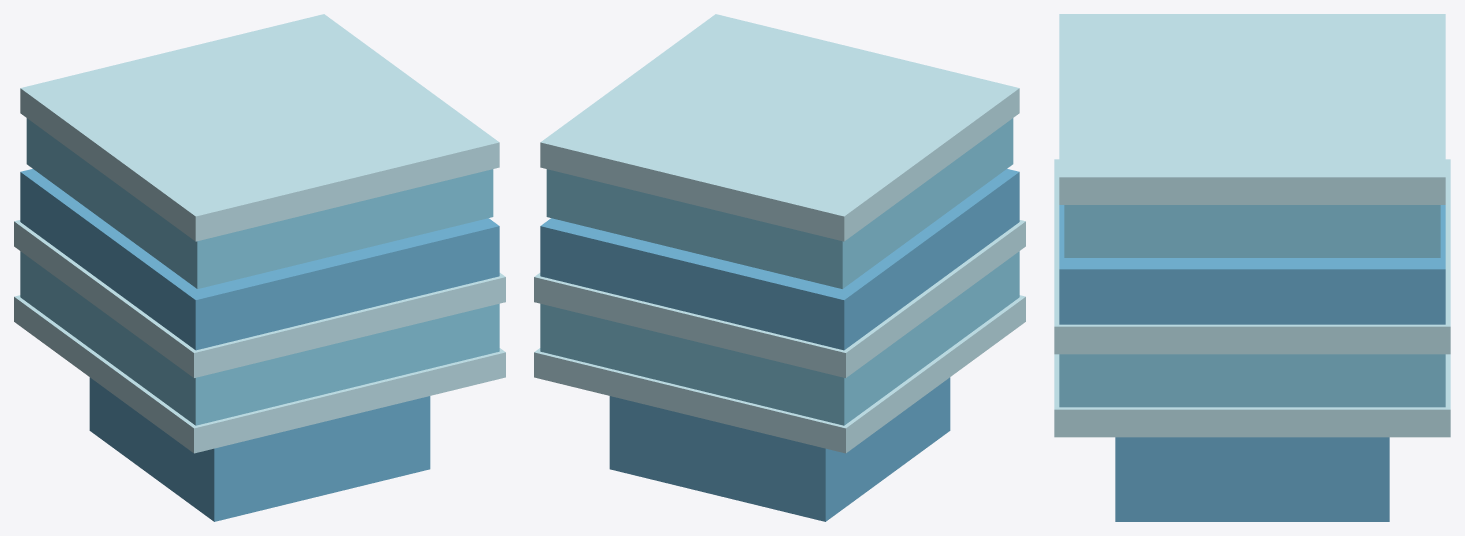
The model's file is samurai_espectral_manga_sup.glb.
3 renders of one model, left to right at view 1: azimuth 30°, elevation 25°; view 2: azimuth 150°, elevation 25°; view 3: azimuth 270°, elevation 25°, orthographic. The views are drawn at different scales.
Visible parts, largest first — view 1: samurai_espectral_manga_sup; view 2: samurai_espectral_manga_sup; view 3: samurai_espectral_manga_sup.
Part boxes in pixels (x1,y1,x2,y2): samurai_espectral_manga_sup: (14, 14, 505, 521); samurai_espectral_manga_sup: (534, 14, 1025, 521); samurai_espectral_manga_sup: (1054, 14, 1450, 521).
Size of the model in its own units: 0.39 by 0.4 by 0.39.
